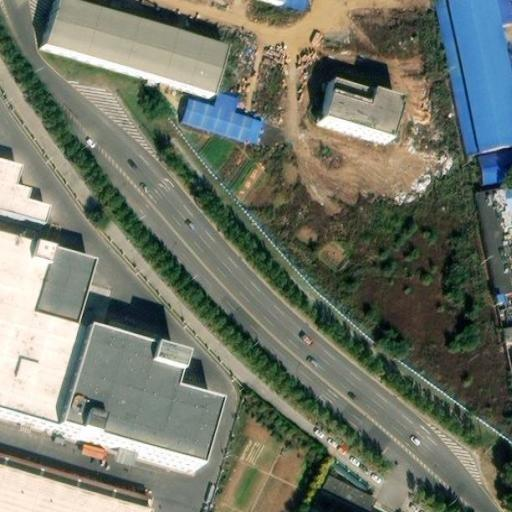building: (62, 319, 227, 461), (54, 0, 239, 98), (435, 0, 512, 155), (0, 446, 152, 511), (320, 83, 402, 142), (185, 102, 269, 155), (473, 188, 512, 293), (0, 155, 54, 220), (312, 473, 376, 512), (477, 146, 512, 183), (505, 323, 512, 344)
